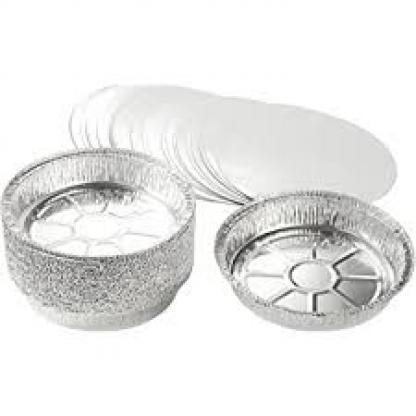Compsot: (0, 148, 191, 330), (212, 189, 410, 329), (216, 100, 394, 200), (72, 85, 189, 163), (174, 92, 246, 199), (113, 89, 203, 172)
